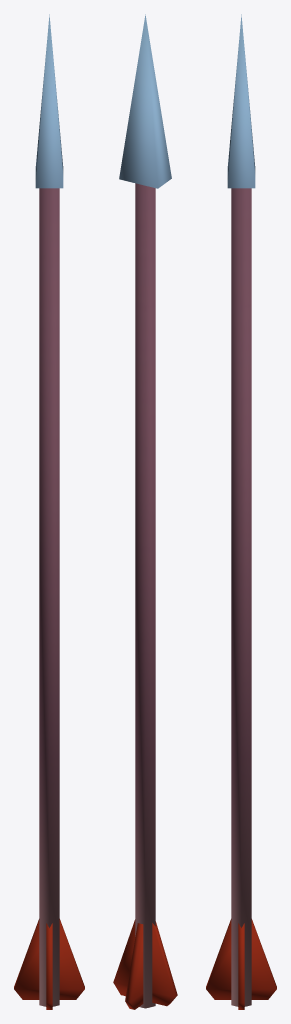
Rendered from Proto_Arrow_01.fbx.
3 renders of one model, left to right at view 1: azimuth 90°, elevation 25°; view 2: azimuth 150°, elevation 25°; view 3: azimuth 270°, elevation 25°, orthographic.
Visible parts, largest first — view 1: Proto_Arrow_01; view 2: Proto_Arrow_01; view 3: Proto_Arrow_01.
Part boxes in pixels (x1=…): Proto_Arrow_01: x1=14, y1=14, x2=84, y2=1009; Proto_Arrow_01: x1=113, y1=14, x2=177, y2=1009; Proto_Arrow_01: x1=206, y1=14, x2=276, y2=1009.
Bounding box in the file's own units: 3.9 × 60 × 3.9.
